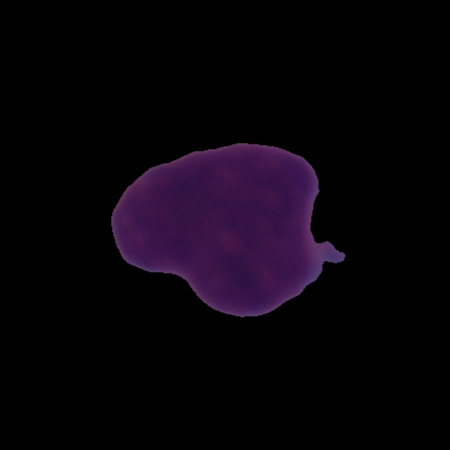ALL: (107, 138, 348, 321)
